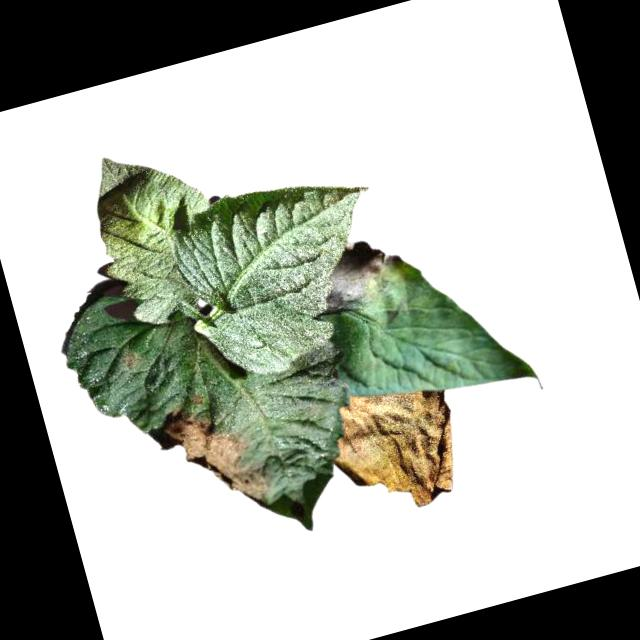Late_blight: (313, 371, 474, 529), (139, 387, 278, 533), (313, 232, 412, 316), (117, 346, 148, 377)
healthy: (160, 158, 409, 390), (78, 133, 235, 332)
